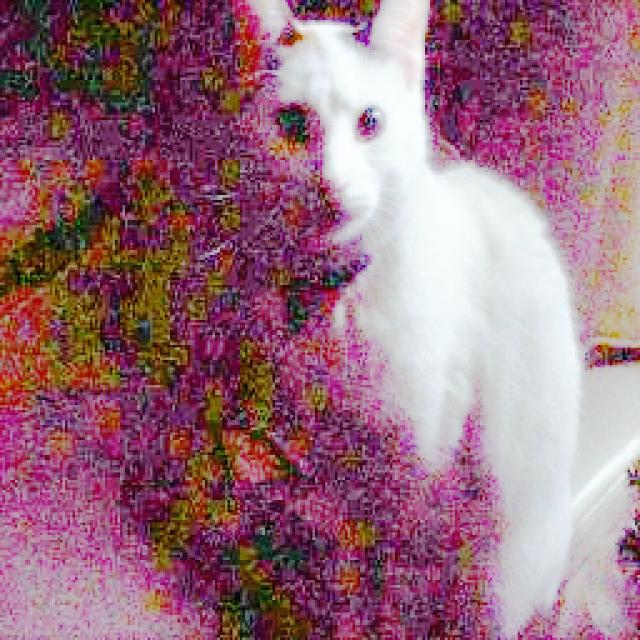cat: (200, 0, 575, 640)
